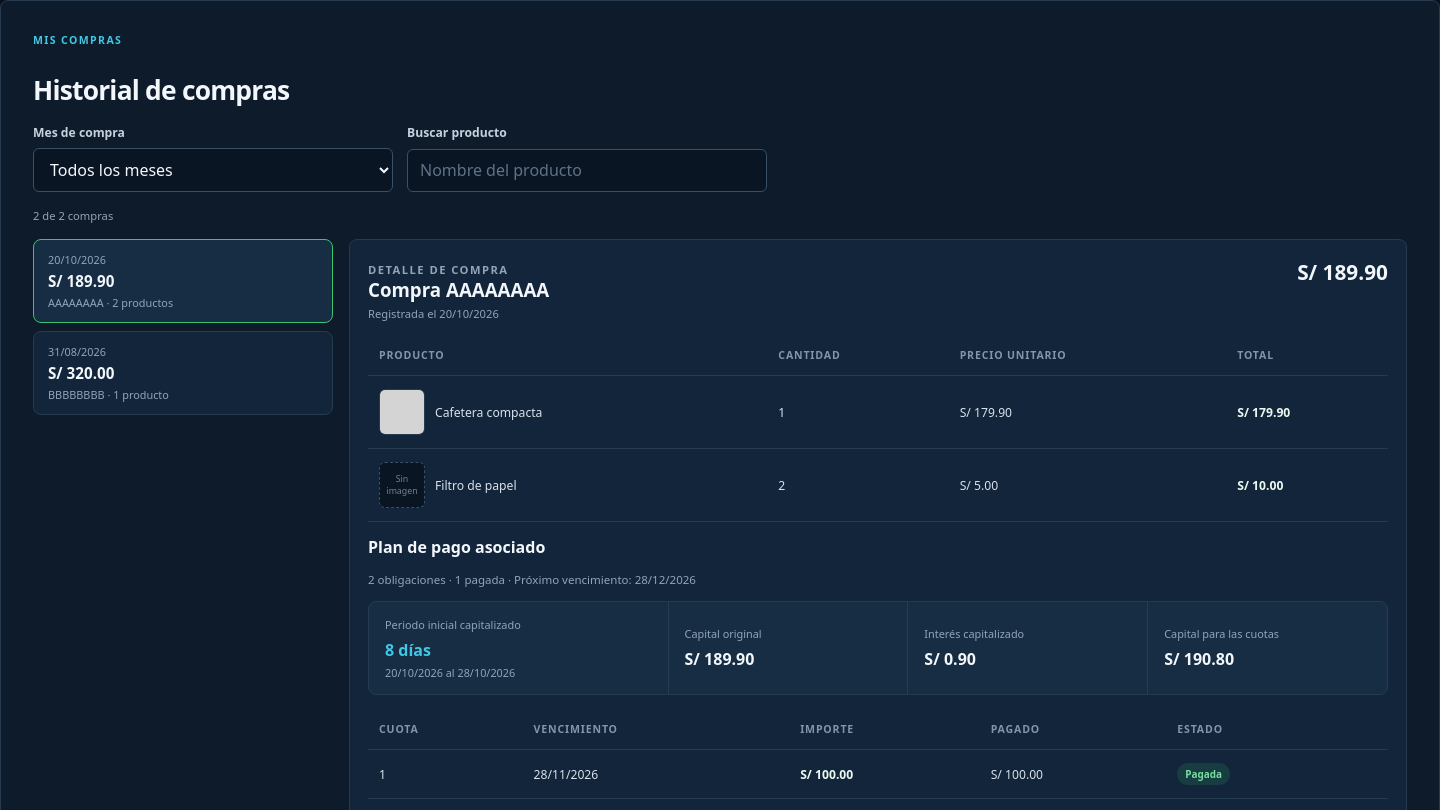
PurchaseHistory › shows the detail of another purchase when it is selected
Click the button "31/08/2026 S/ 320.00 BBBBBBBB · 1 producto": point(77, 352) [33,331,333,415]
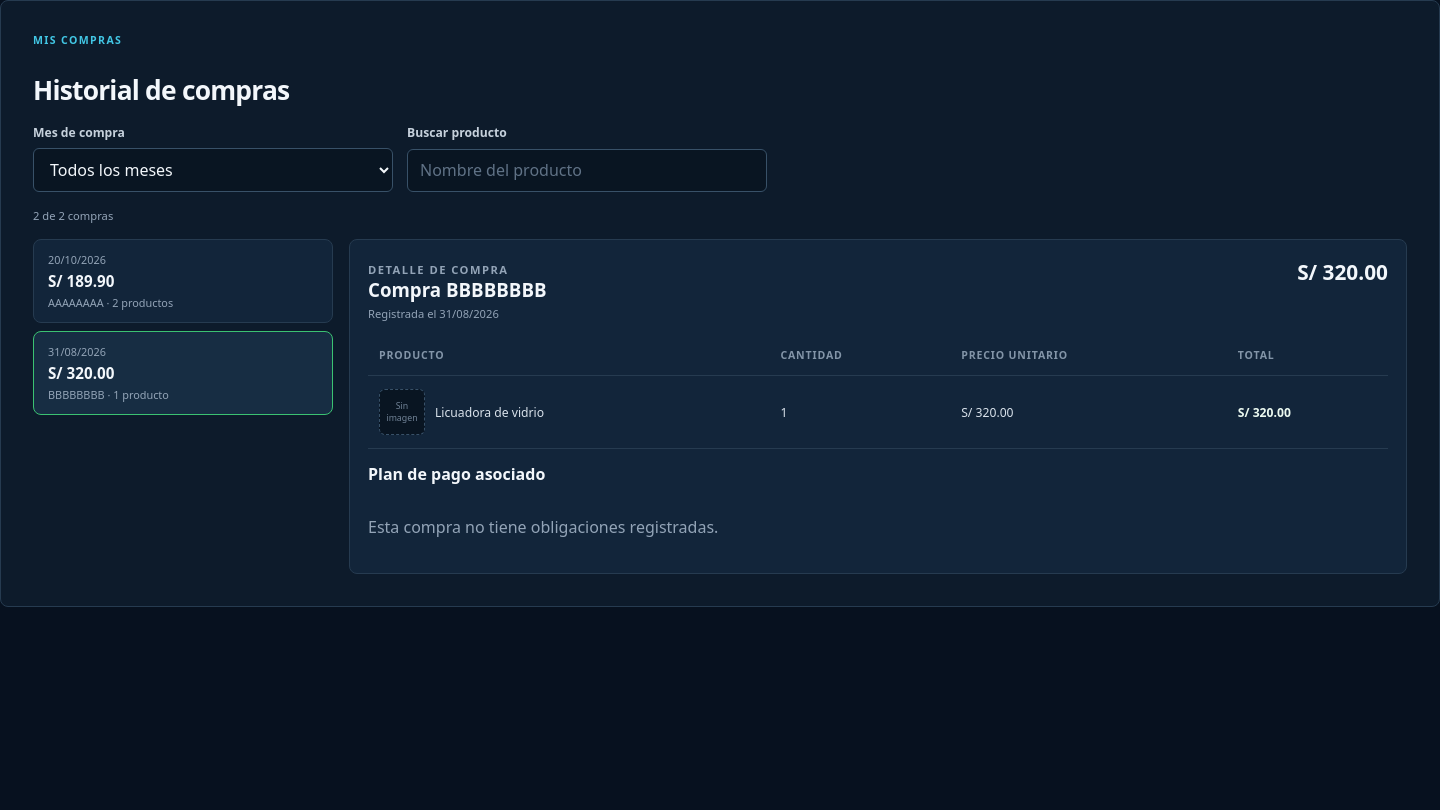
Now the heading "Compra BBBBBBBB" is shown, box [368,277,546,302]
Now the text "Registrada el 31/08/2026" is shown, box [368,306,499,321]
Now the text "Licuadora de vidrio" is shown, box [435,404,544,420]
